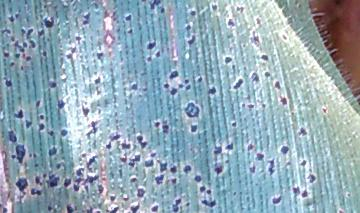tarspot: (72, 172, 102, 194), (183, 100, 200, 120), (105, 130, 120, 152), (15, 176, 29, 199), (83, 120, 97, 140), (248, 29, 261, 50), (135, 132, 148, 152), (15, 143, 27, 164), (41, 14, 57, 29), (200, 197, 218, 210), (8, 36, 23, 51), (86, 154, 99, 171), (156, 157, 169, 173), (232, 76, 244, 93), (81, 10, 92, 28), (79, 103, 91, 119), (48, 171, 58, 190), (62, 175, 73, 192), (12, 106, 25, 120), (162, 119, 172, 137), (55, 95, 66, 111), (135, 185, 146, 201), (128, 152, 142, 164), (297, 125, 308, 140), (171, 197, 181, 213), (7, 129, 17, 145), (267, 157, 275, 177), (30, 186, 42, 199), (270, 194, 283, 206), (154, 173, 166, 186), (74, 165, 86, 178), (186, 33, 197, 47), (118, 152, 129, 166), (224, 140, 236, 152), (305, 172, 317, 184), (143, 158, 155, 170), (120, 140, 132, 152), (188, 122, 199, 135), (144, 40, 157, 51), (94, 50, 105, 63), (214, 163, 225, 176), (250, 71, 261, 84), (148, 1, 162, 11), (291, 183, 300, 198), (206, 84, 217, 96), (129, 201, 140, 213), (3, 77, 14, 89), (123, 11, 133, 24), (182, 162, 192, 175), (127, 175, 140, 185), (213, 143, 222, 157), (168, 69, 179, 80), (278, 95, 289, 106), (47, 145, 58, 156), (25, 27, 36, 38), (226, 17, 236, 29), (298, 156, 308, 168), (254, 152, 266, 162), (93, 75, 103, 87), (34, 174, 43, 187), (223, 54, 233, 65), (149, 202, 159, 213), (47, 79, 57, 90), (64, 52, 75, 62), (209, 1, 218, 13), (280, 144, 289, 156), (169, 164, 178, 176), (46, 204, 58, 213), (25, 117, 33, 130), (106, 205, 119, 213), (117, 167, 125, 180), (168, 87, 179, 96), (170, 176, 179, 187), (6, 14, 15, 25), (69, 44, 78, 55), (102, 9, 111, 20), (96, 182, 104, 194), (28, 38, 36, 50), (274, 79, 281, 92), (259, 53, 269, 62), (158, 5, 167, 15), (59, 128, 68, 138), (38, 112, 48, 121), (249, 164, 258, 174), (107, 194, 117, 203), (73, 35, 83, 44), (41, 48, 50, 58), (54, 161, 63, 171), (230, 119, 238, 130), (38, 122, 46, 133), (130, 81, 138, 92), (83, 205, 94, 213), (1, 28, 12, 36), (254, 15, 261, 27), (153, 50, 162, 59), (263, 70, 272, 79), (152, 120, 161, 129), (246, 142, 255, 151), (236, 4, 244, 14), (280, 32, 288, 42), (300, 189, 308, 199), (34, 98, 42, 108), (193, 174, 203, 182), (18, 26, 26, 36), (189, 9, 198, 17), (66, 204, 74, 213), (122, 195, 131, 203), (1, 205, 10, 213), (94, 87, 102, 96), (184, 22, 191, 32), (246, 103, 256, 110), (198, 184, 205, 194), (108, 169, 115, 179), (193, 75, 204, 81), (145, 54, 153, 62), (125, 27, 133, 35), (320, 106, 328, 114), (163, 82, 170, 91), (184, 84, 193, 91), (48, 129, 55, 138), (184, 200, 191, 209), (128, 162, 137, 169), (335, 207, 345, 213), (345, 190, 351, 200), (22, 40, 28, 50), (182, 77, 190, 84), (205, 187, 212, 195), (149, 151, 157, 158), (10, 153, 17, 161), (13, 52, 21, 59), (3, 51, 11, 58), (34, 161, 40, 170), (18, 64, 25, 71), (177, 82, 183, 90), (25, 55, 31, 63), (240, 102, 247, 108), (260, 101, 266, 108), (33, 151, 37, 160), (9, 61, 15, 67), (94, 208, 101, 213), (28, 152, 33, 158), (23, 1, 27, 6)
